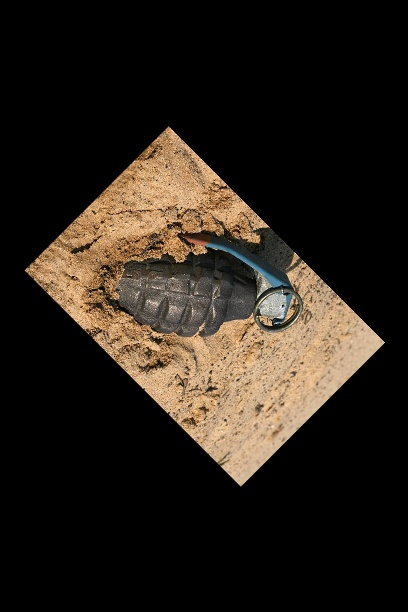e1: (115, 233, 306, 341)
